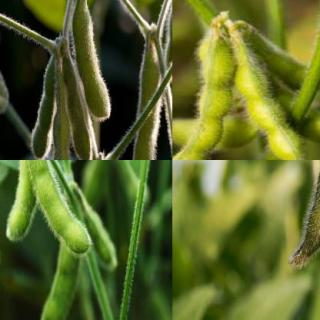soya: (231, 42, 305, 159), (172, 38, 235, 159), (28, 160, 91, 255), (242, 21, 319, 95), (72, 0, 112, 118), (287, 160, 319, 268), (132, 51, 162, 159), (62, 58, 92, 159), (41, 249, 82, 319), (30, 59, 57, 160), (275, 88, 319, 147), (5, 160, 36, 242), (172, 121, 256, 148), (53, 78, 71, 160)
